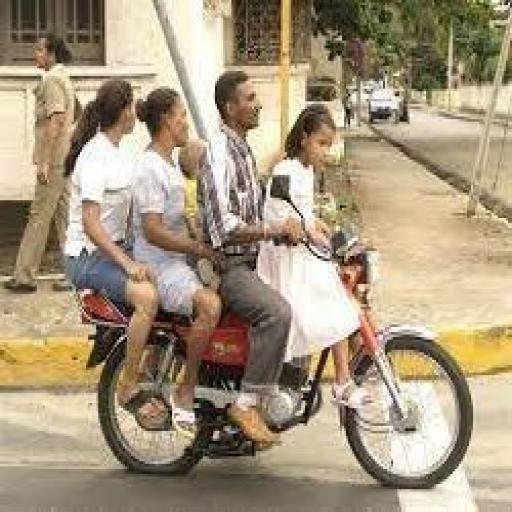no helmet: (216, 53, 287, 157)
triple riding: (47, 46, 477, 502)
